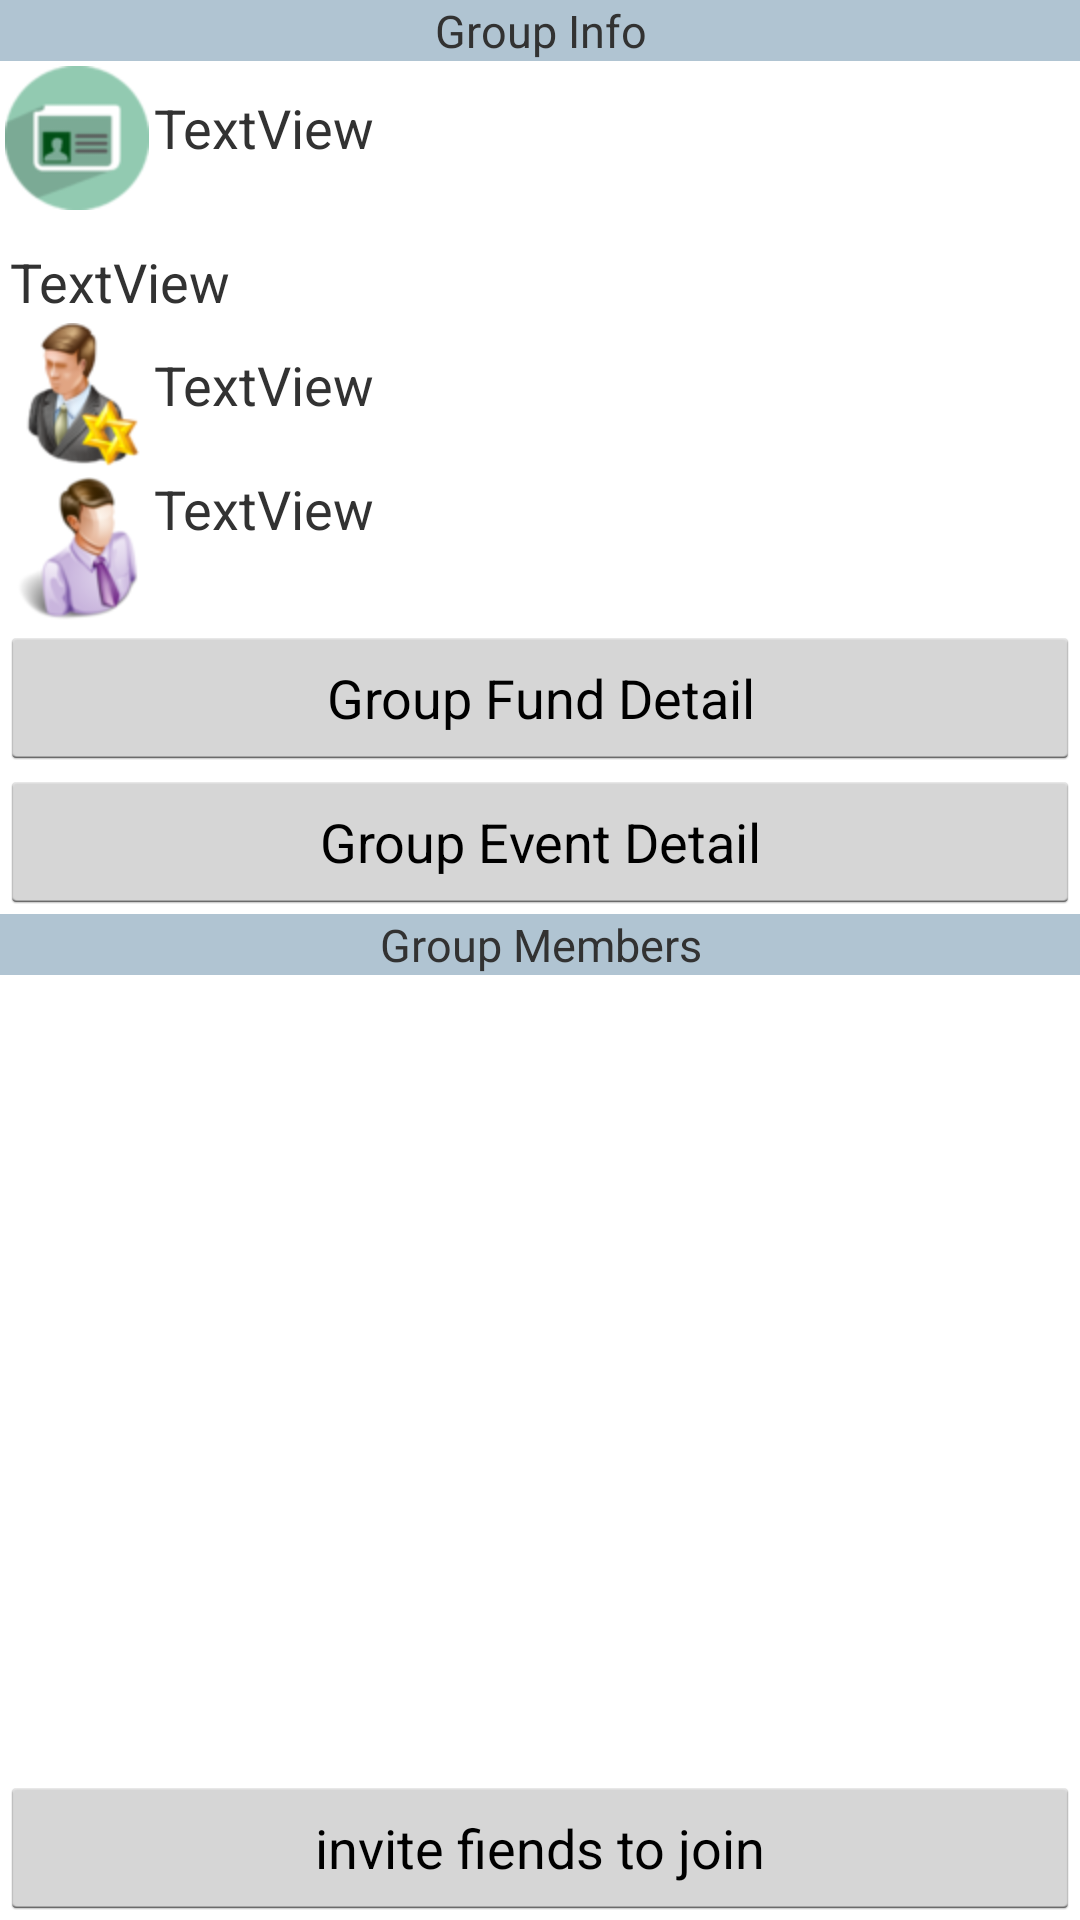

Screen size 1080px×1920px. Icon name, then its center in pixels as (x=x, y=y):
group owner: (x=83, y=394)
groupname: (x=77, y=138)
